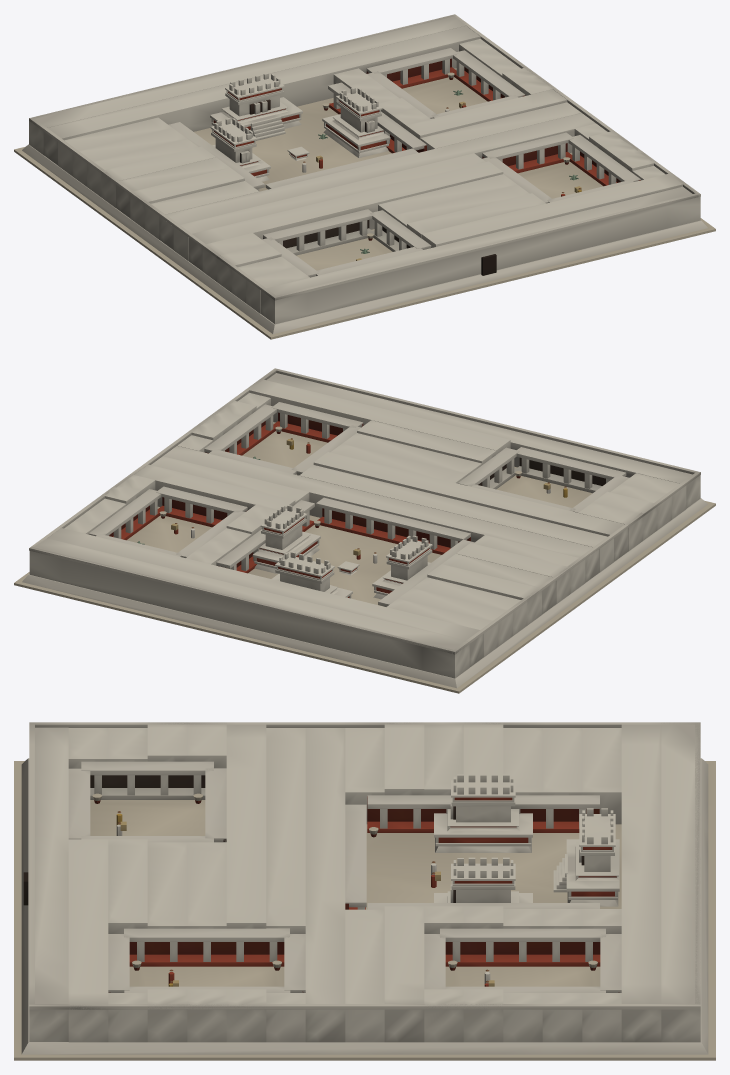
The model's file is atetelco.glb.
3 views of the same model, one above another, from view 1: azimuth 30°, elevation 25°; view 2: azimuth 150°, elevation 25°; view 3: azimuth 270°, elevation 25° (orthographic). The views are drawn at different scales.
Visible parts, largest first — view 1: p1_compound, p2_temples, p0_ground; view 2: p1_compound, p2_temples, p0_ground; view 3: p1_compound, p0_ground, p2_temples.
Boxes of the visible parts, x1=… form: p1_compound: x1=22, y1=14, x2=707, y2=334; p2_temples: x1=210, y1=87, x2=390, y2=181; p0_ground: x1=14, y1=146, x2=715, y2=339; p1_compound: x1=22, y1=368, x2=707, y2=688; p2_temples: x1=252, y1=505, x2=432, y2=599; p0_ground: x1=14, y1=500, x2=715, y2=693; p1_compound: x1=21, y1=722, x2=708, y2=1054; p0_ground: x1=14, y1=761, x2=715, y2=1060; p2_temples: x1=434, y1=774, x2=532, y2=902.
Size of the model in its own units: 64 by 7.34 by 64.
